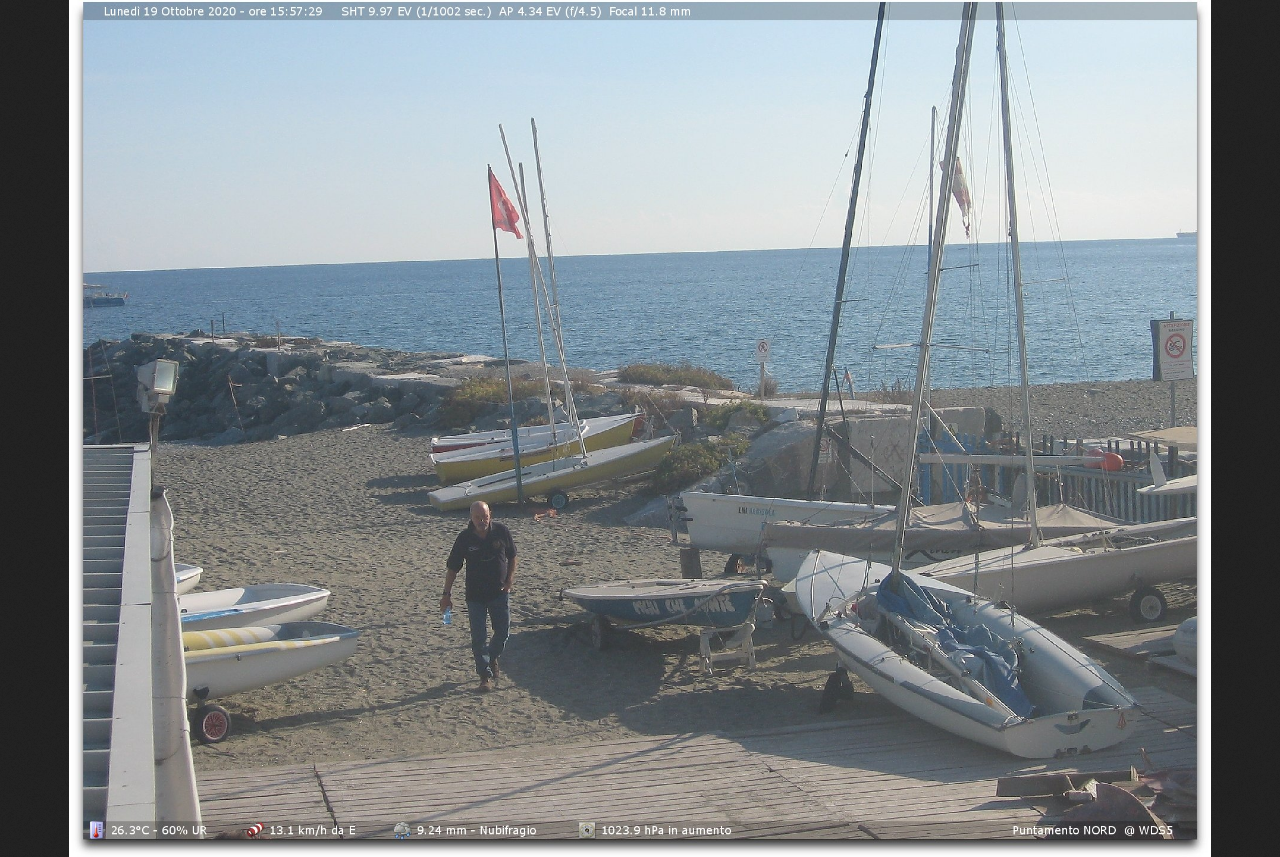maybe: (484, 168, 526, 239)
